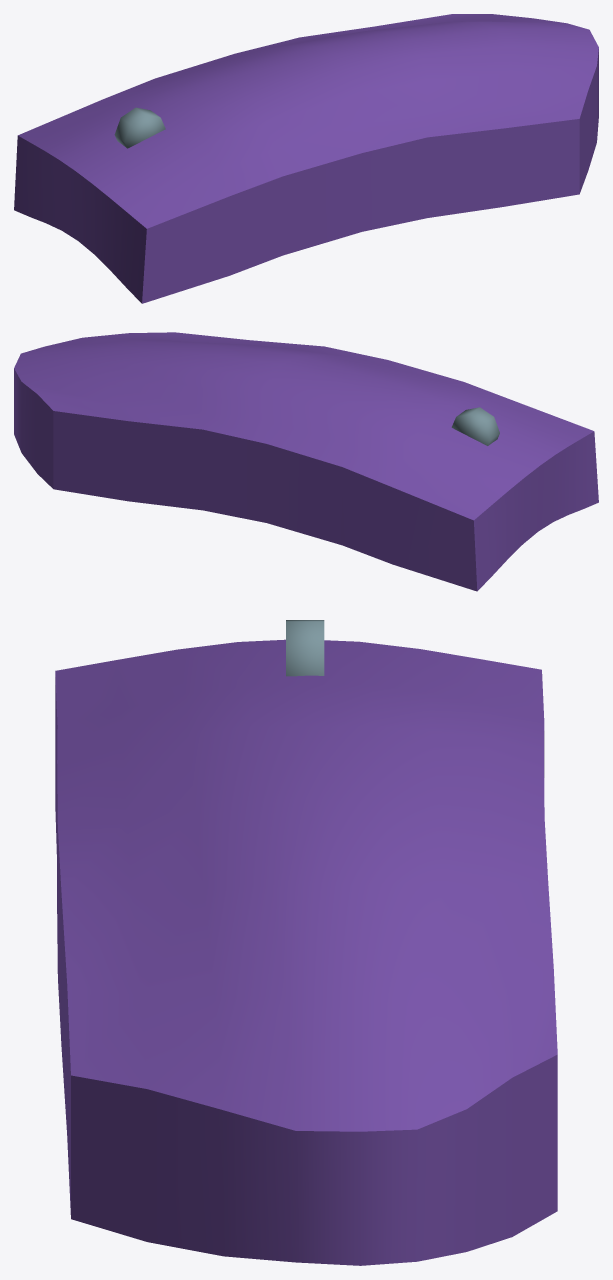
The model's file is SM_Mouse_Kp.fbx.
3 views of the same model, one above another, from view 1: azimuth 30°, elevation 25°; view 2: azimuth 150°, elevation 25°; view 3: azimuth 270°, elevation 25° (orthographic). The views are drawn at different scales.
Parts seen in each view (by area): view 1: Mouse; view 2: Mouse; view 3: Mouse.
Boxes of the visible parts, <box> form: Mouse: <box>14,14,598,303</box>; Mouse: <box>14,332,598,591</box>; Mouse: <box>55,620,557,1265</box>.
Bounding box in the file's own units: 0.2718 × 0.0658 × 0.1173.
